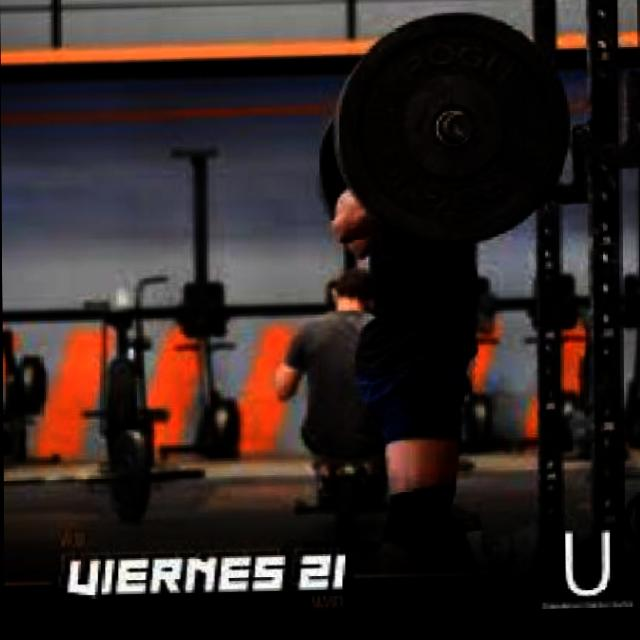barbell: (333, 6, 576, 257)
